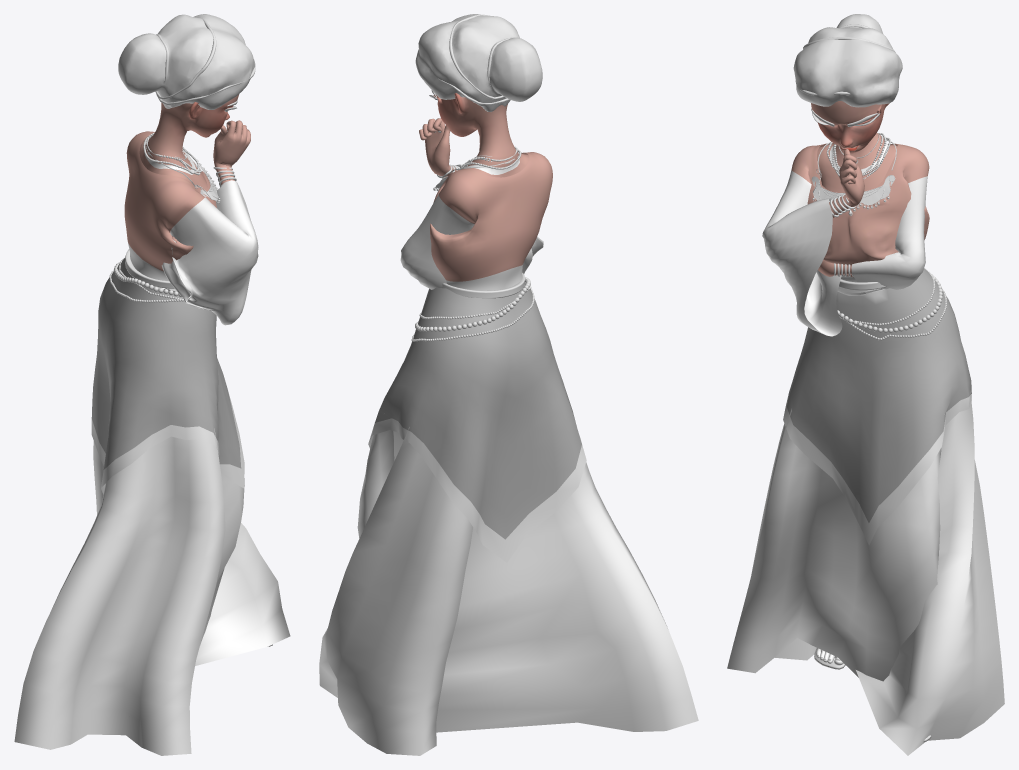
The model's file is rig_unity_shader_test.fbx.
3 views of the same model, side by side, from view 1: azimuth 30°, elevation 25°; view 2: azimuth 150°, elevation 25°; view 3: azimuth 270°, elevation 25° (orthographic).
Parts seen in each view (by area): view 1: Dress.001, Sash, Dress, Hair, Body, Belt; view 2: Dress.001, Sash, Dress, Hair, Body, Belt, Hoop_02; view 3: Dress.001, Sash, Dress, Hair, Body, Necklace_05, Hoop_02.
Part boxes in pixels (<box>): Dress.001: <box>14,276,290,755</box>; Sash: <box>91,258,244,494</box>; Dress: <box>124,131,258,325</box>; Hair: <box>118,14,255,109</box>; Body: <box>139,94,250,201</box>; Belt: <box>125,249,174,288</box>; Dress.001: <box>319,285,698,755</box>; Sash: <box>368,287,586,562</box>; Dress: <box>400,152,552,290</box>; Hair: <box>415,14,542,111</box>; Body: <box>419,93,529,177</box>; Belt: <box>441,273,525,298</box>; Hoop_02: <box>415,277,530,331</box>; Dress.001: <box>727,288,1004,755</box>; Sash: <box>783,268,971,545</box>; Dress: <box>762,143,929,336</box>; Hair: <box>793,14,902,107</box>; Body: <box>811,101,897,276</box>; Necklace_05: <box>811,139,896,215</box>; Hoop_02: <box>821,274,942,332</box>.
Bounding box in the file's own units: 85.75 × 170 × 63.52.
